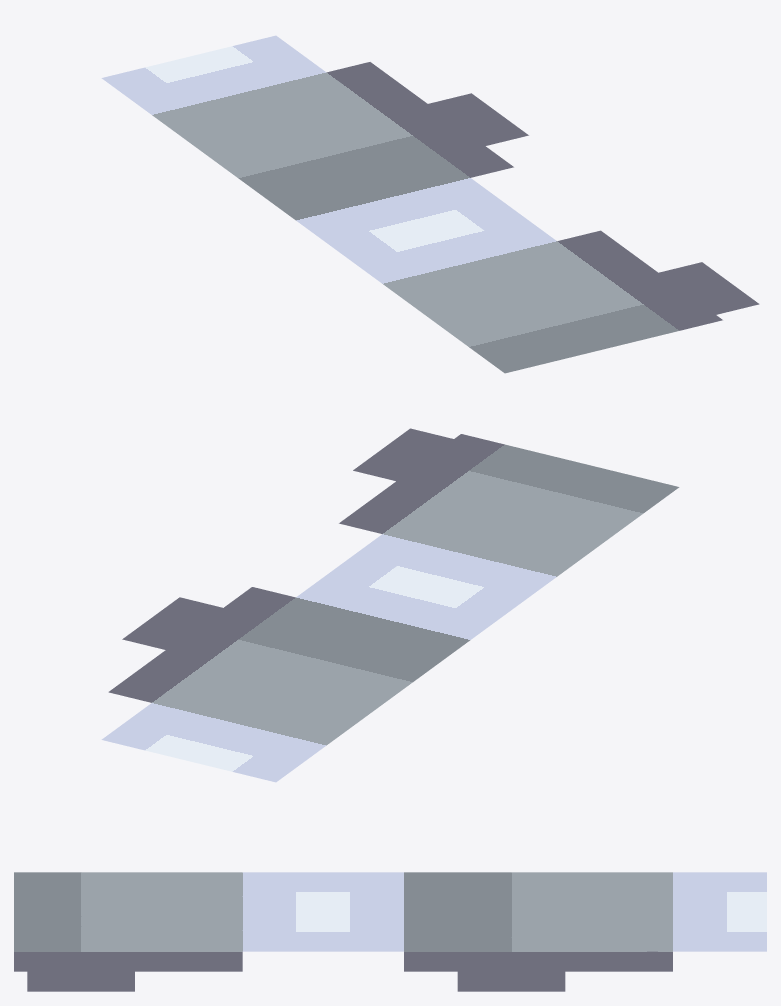
3 renders of one model, top to bottom at view 1: azimuth 30°, elevation 25°; view 2: azimuth 150°, elevation 25°; view 3: azimuth 270°, elevation 25°, orthographic. The views are drawn at different scales.
Bounding box in the file's own units: 0.5 × 0 × 1.
Materials: 1 (1 with a texture image).
